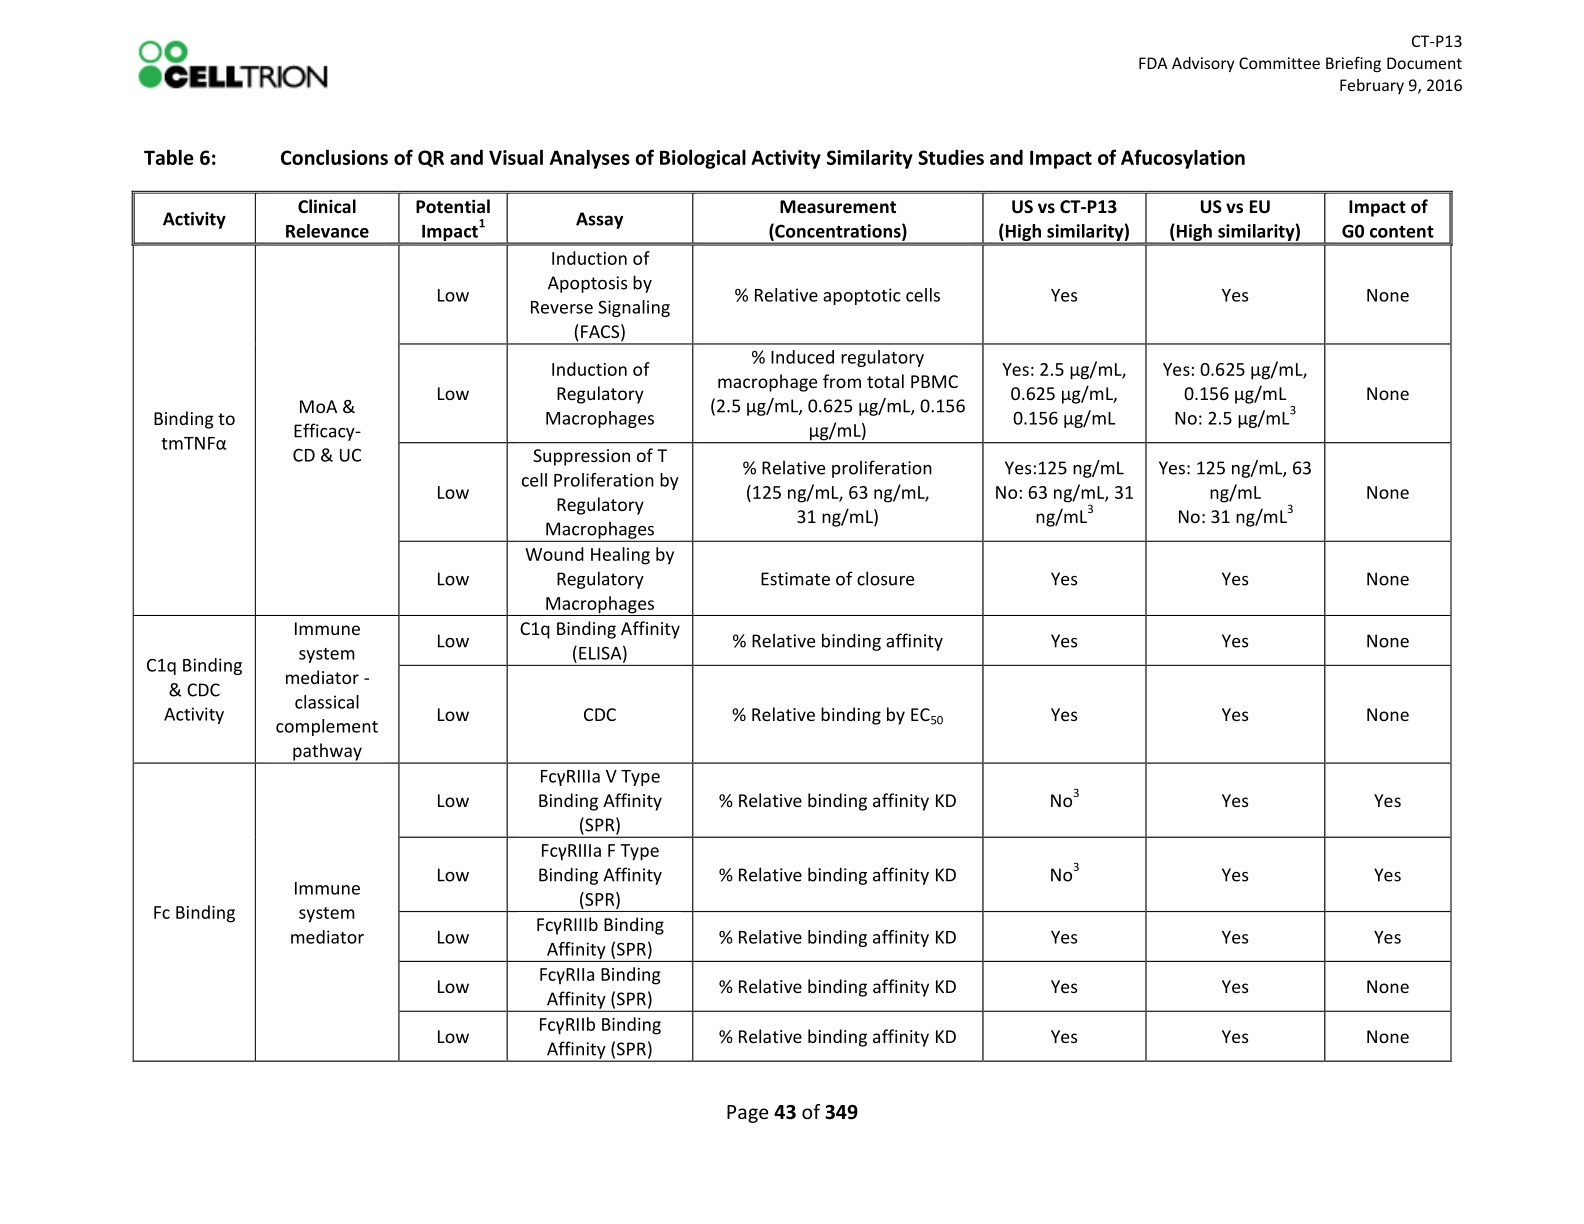merged_cells: (131, 190, 1452, 1062)
